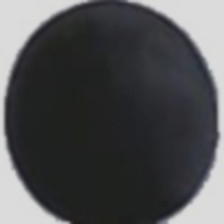grapes: (7, 11, 188, 187)
